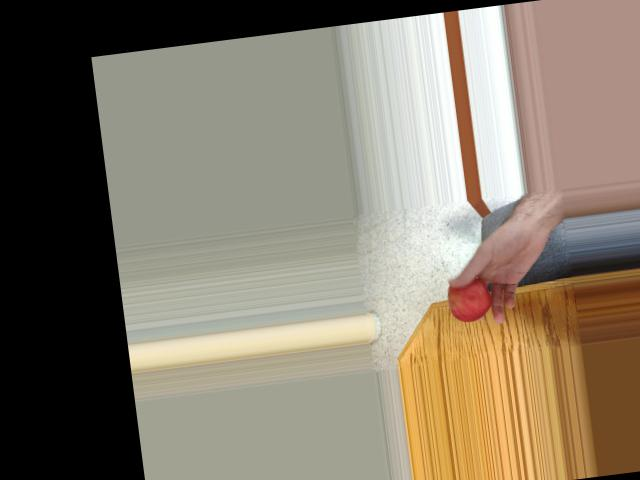apple: (441, 275, 496, 325)
